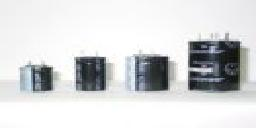Electrolytic-Capacitor: (187, 31, 245, 93), (124, 47, 172, 93), (73, 48, 110, 99), (17, 58, 56, 93)
